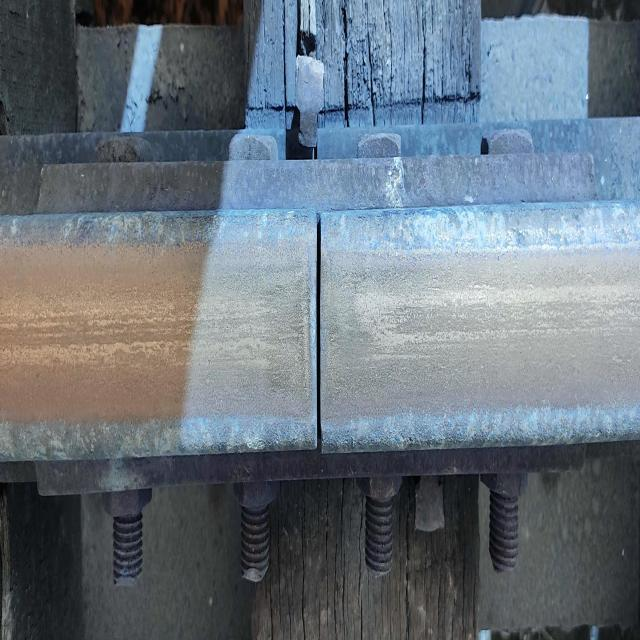Good Fasteners: (296, 55, 324, 148)
Good Joint: (20, 154, 609, 592)
